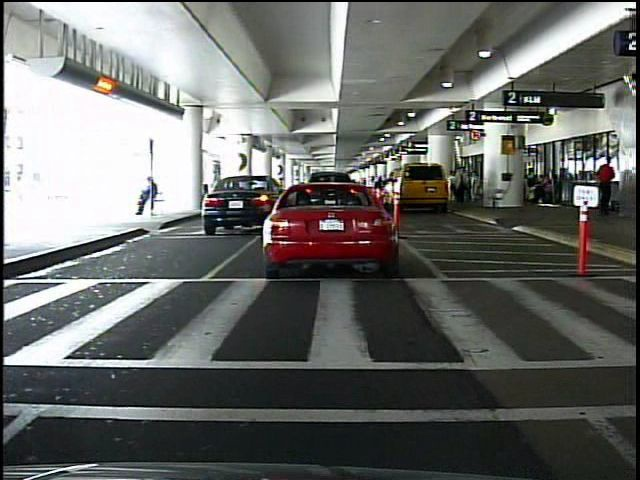person: (622, 143, 637, 305), (597, 157, 615, 216)
